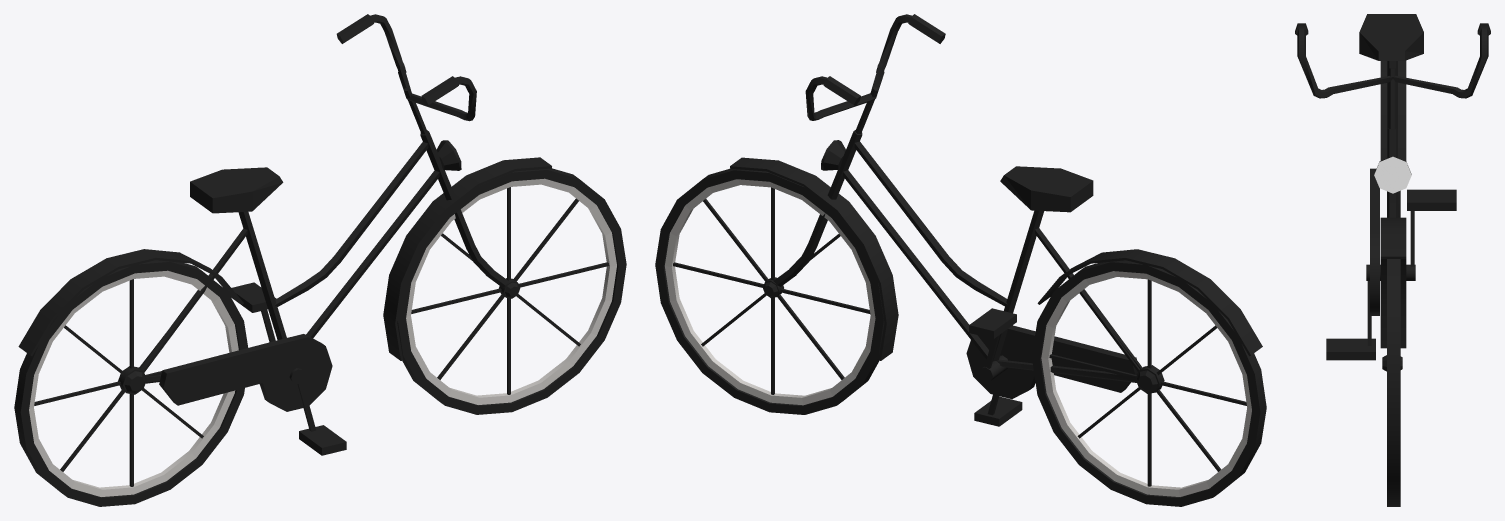
File: SM_bike_black.fbx
The picture shows the model from 3 angles, left to right: view 1: azimuth 30°, elevation 25°; view 2: azimuth 150°, elevation 25°; view 3: azimuth 270°, elevation 25°; orthographic projection. The views are drawn at different scales.
Parts seen in each view (by area): view 1: Box110; view 2: Box110; view 3: Box110.
Boxes of the visible parts, x1,y1,x2,y2 form: Box110: (14,14,626,506); Box110: (655,14,1266,506); Box110: (1295,14,1490,506).
Size of the model in its own units: 101 by 26.31 by 61.8.
